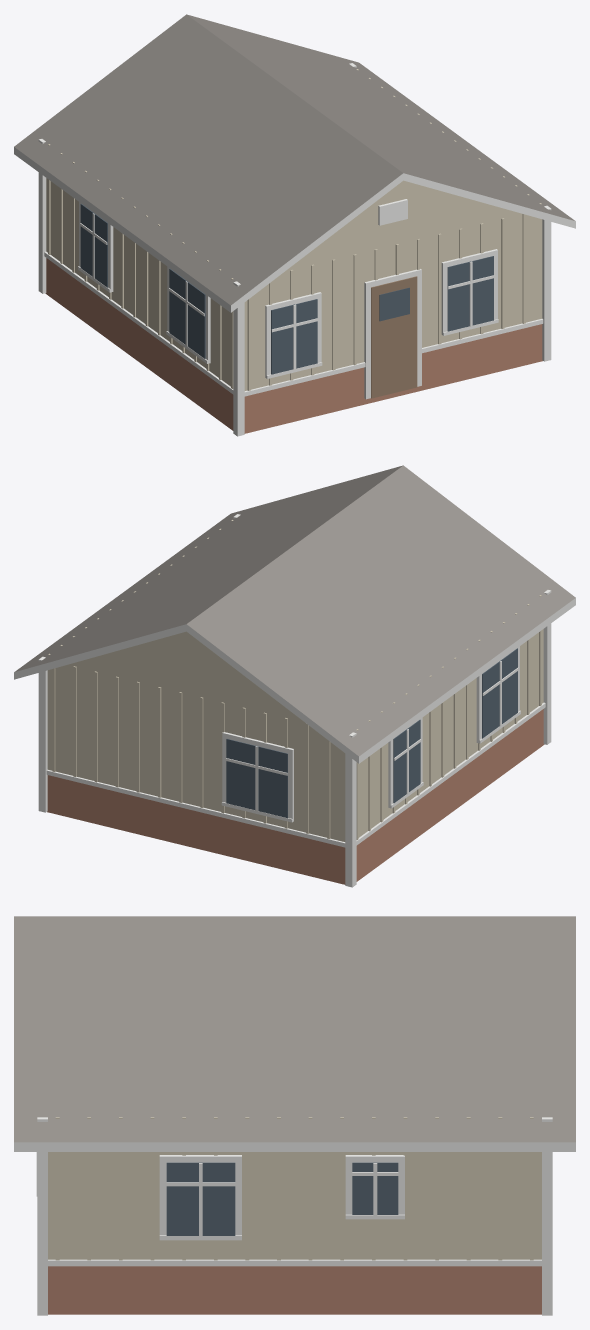
File: fig-craftsman.glb
3 renders of one model, top to bottom at view 1: azimuth 30°, elevation 25°; view 2: azimuth 150°, elevation 25°; view 3: azimuth 270°, elevation 25°, orthographic. The views are drawn at different scales.
Visible parts, largest first — view 1: The Fig (craftsman); view 2: The Fig (craftsman); view 3: The Fig (craftsman).
Boxes of the visible parts, x1,y1,x2,y2 form: The Fig (craftsman): (14, 14, 575, 436); The Fig (craftsman): (14, 465, 575, 887); The Fig (craftsman): (14, 916, 575, 1315).
Size of the model in its own units: 6.86 by 4.42 by 7.47.
